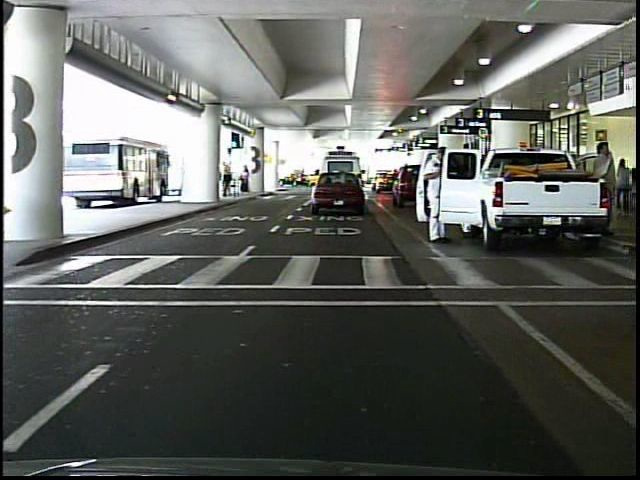person: (420, 140, 458, 247), (586, 137, 617, 230), (614, 154, 633, 215), (221, 158, 235, 198), (239, 163, 254, 195)
